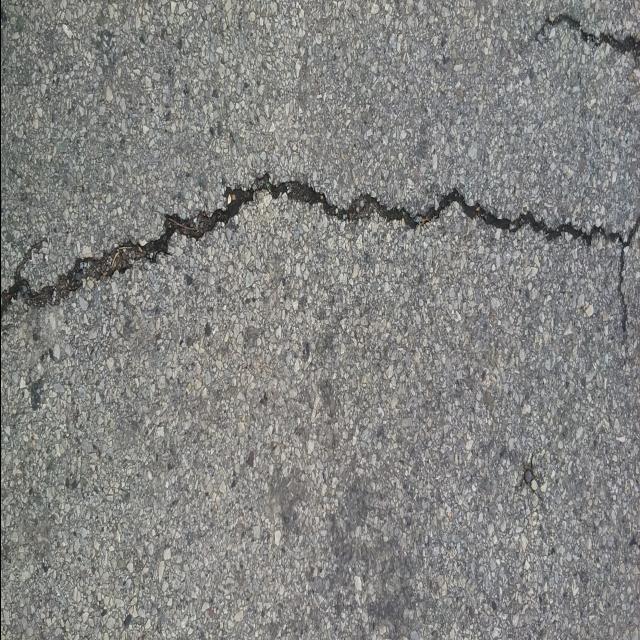Crack: (0, 172, 640, 351), (534, 11, 640, 55)
